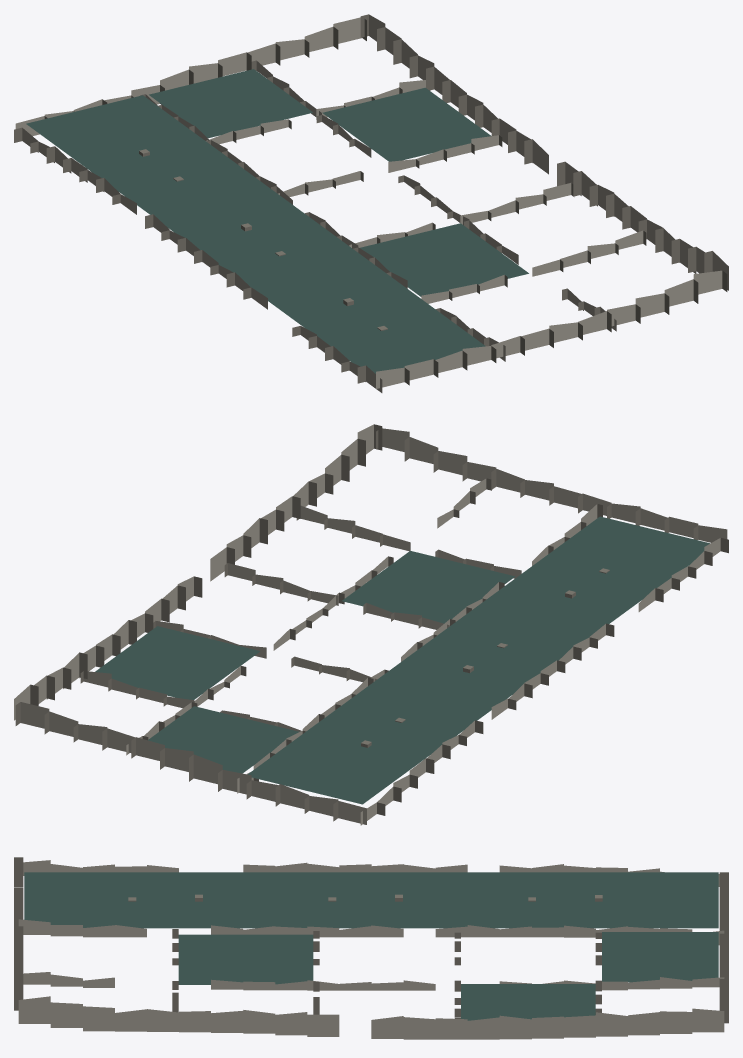
Rendered from sutro-baths.glb.
The picture shows the model from 3 angles, top to bottom: view 1: azimuth 30°, elevation 25°; view 2: azimuth 150°, elevation 25°; view 3: azimuth 270°, elevation 25°; orthographic projection. The views are drawn at different scales.
Visible parts, largest first — view 1: ruins; view 2: ruins; view 3: ruins.
Boxes of the visible parts, x1,y1,x2,y2 form: ruins: (14, 14, 728, 392); ruins: (14, 424, 728, 825); ruins: (14, 857, 728, 1039).
Bounding box in the file's own units: 51.2 × 7.91 × 91.2.
